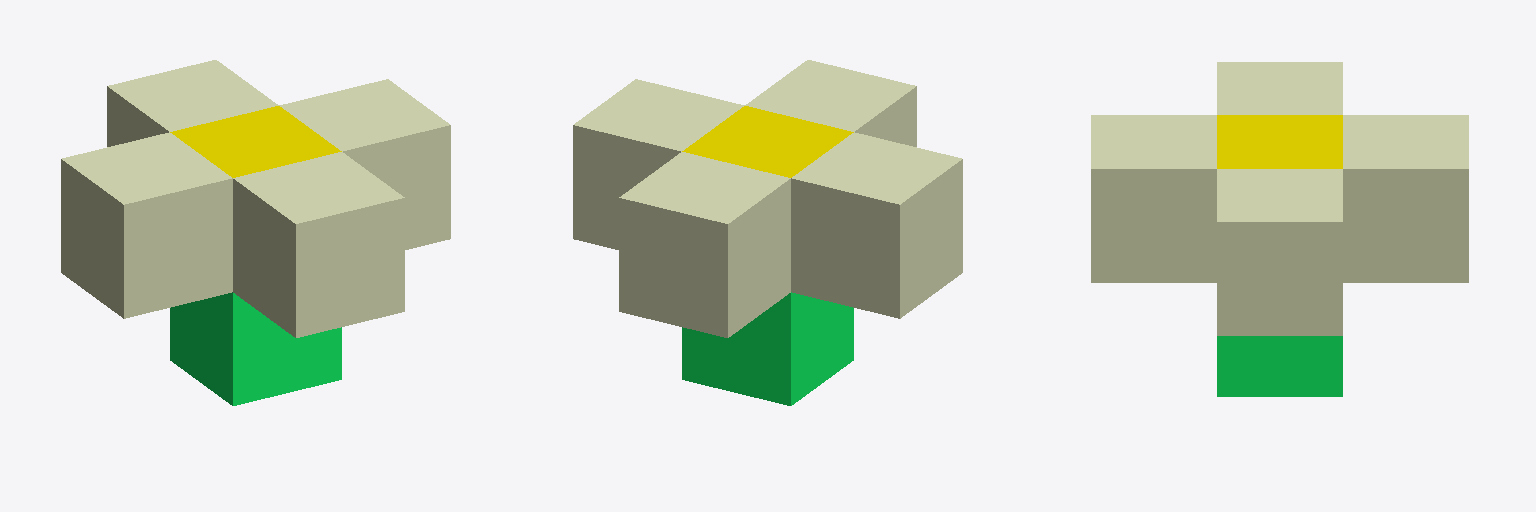
3 renders of one model, left to right at view 1: azimuth 30°, elevation 25°; view 2: azimuth 150°, elevation 25°; view 3: azimuth 270°, elevation 25°, orthographic.
Bounding box in the file's own units: 3 × 2 × 3.
1 materials, 1 textured.